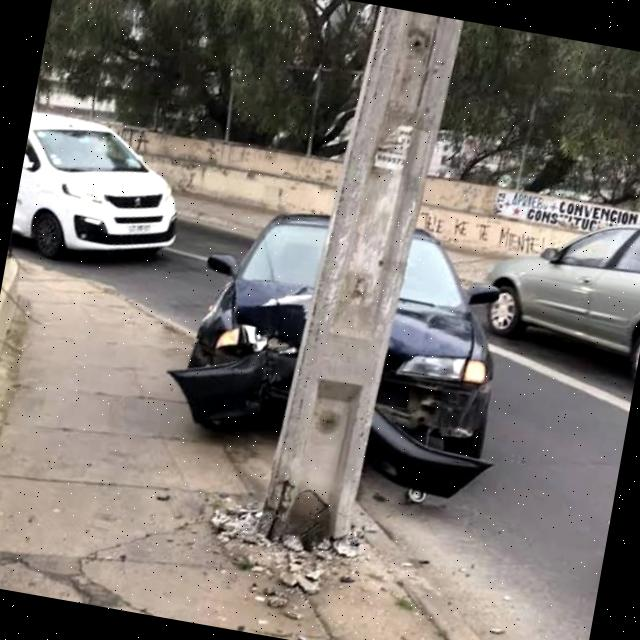Broken Pole: (208, 6, 463, 591)
